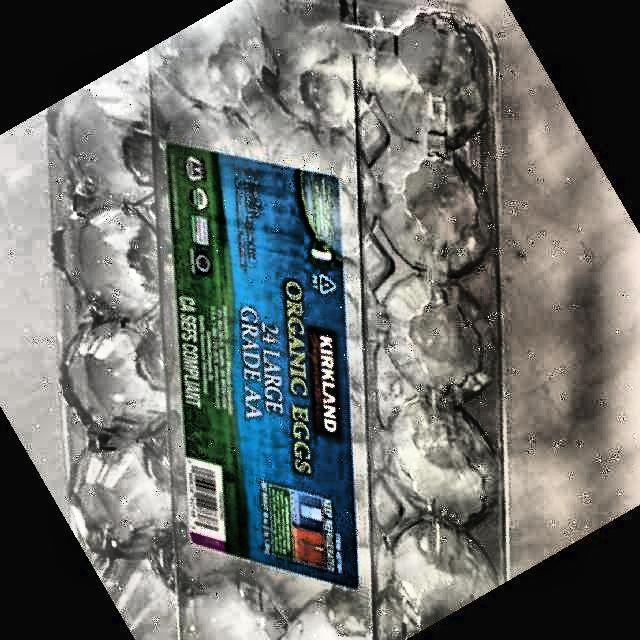plastic: (48, 0, 516, 640)
